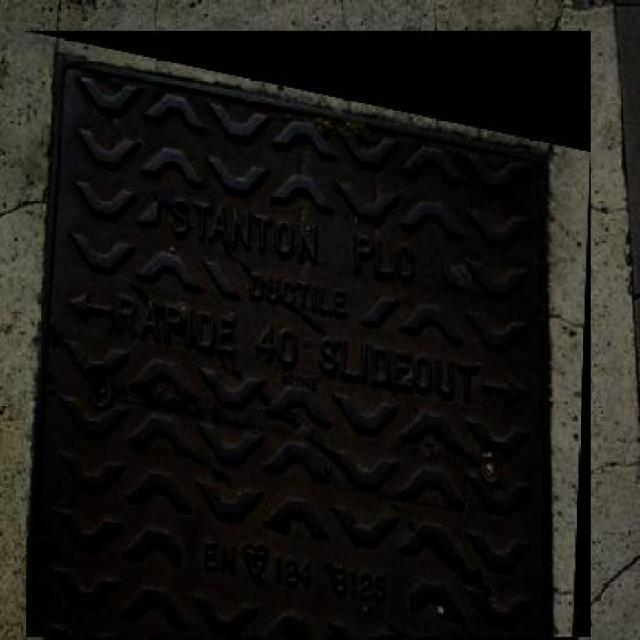Manhole: (26, 32, 591, 638)
